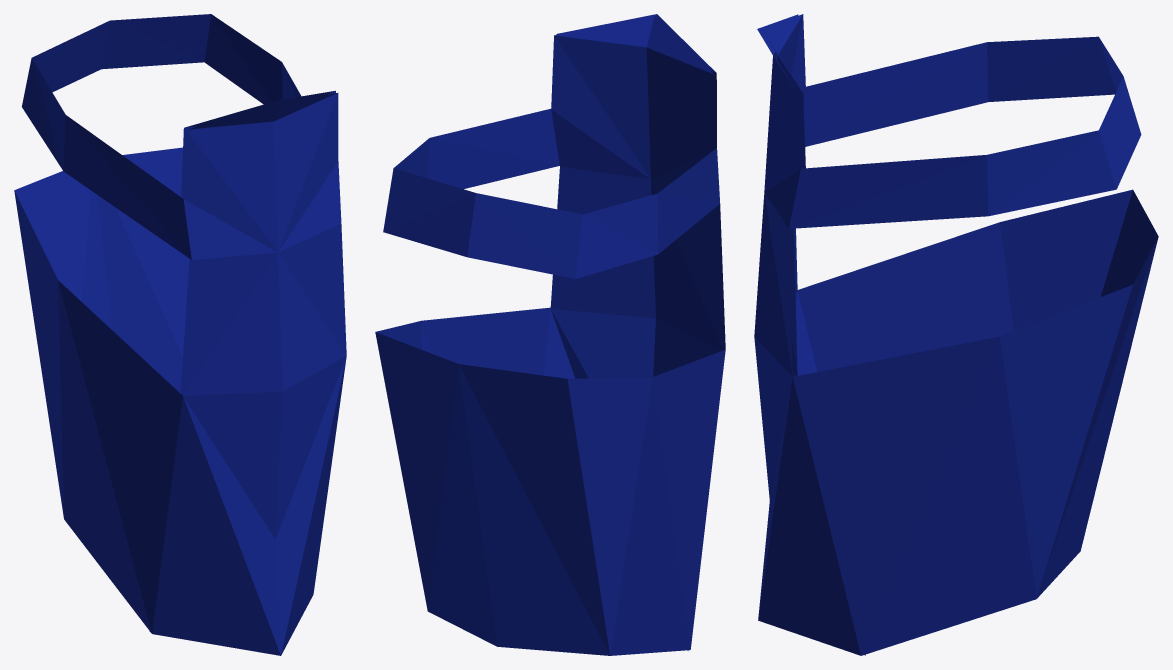
Rendered from TestShinL.obj.
The picture shows the model from 3 angles, left to right: view 1: azimuth 30°, elevation 25°; view 2: azimuth 150°, elevation 25°; view 3: azimuth 270°, elevation 25°; orthographic projection. The views are drawn at different scales.
Visible parts, largest first — view 1: ShinArmor1.l_Cube.005; view 2: ShinArmor1.l_Cube.005; view 3: ShinArmor1.l_Cube.005.
Boxes of the visible parts, x1,y1,x2,y2 form: ShinArmor1.l_Cube.005: (14, 14, 346, 655); ShinArmor1.l_Cube.005: (375, 14, 725, 655); ShinArmor1.l_Cube.005: (754, 14, 1158, 655).
Bounding box in the file's own units: 0.136 × 0.3284 × 0.2033.
